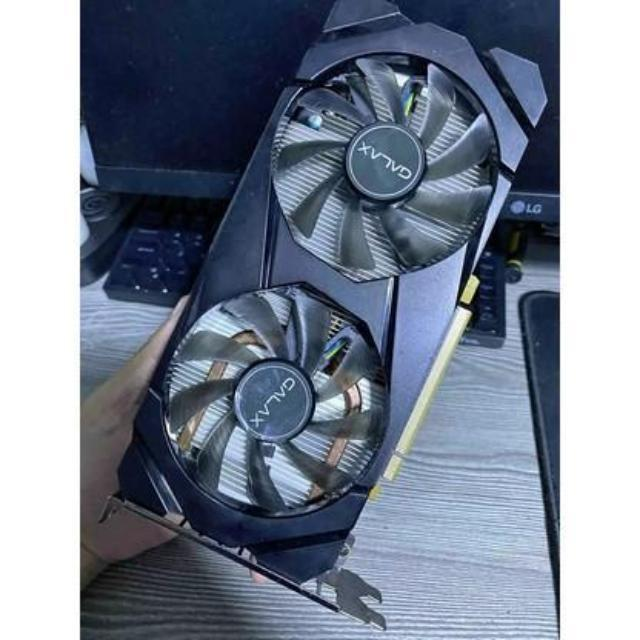GPU: (126, 8, 548, 563)
